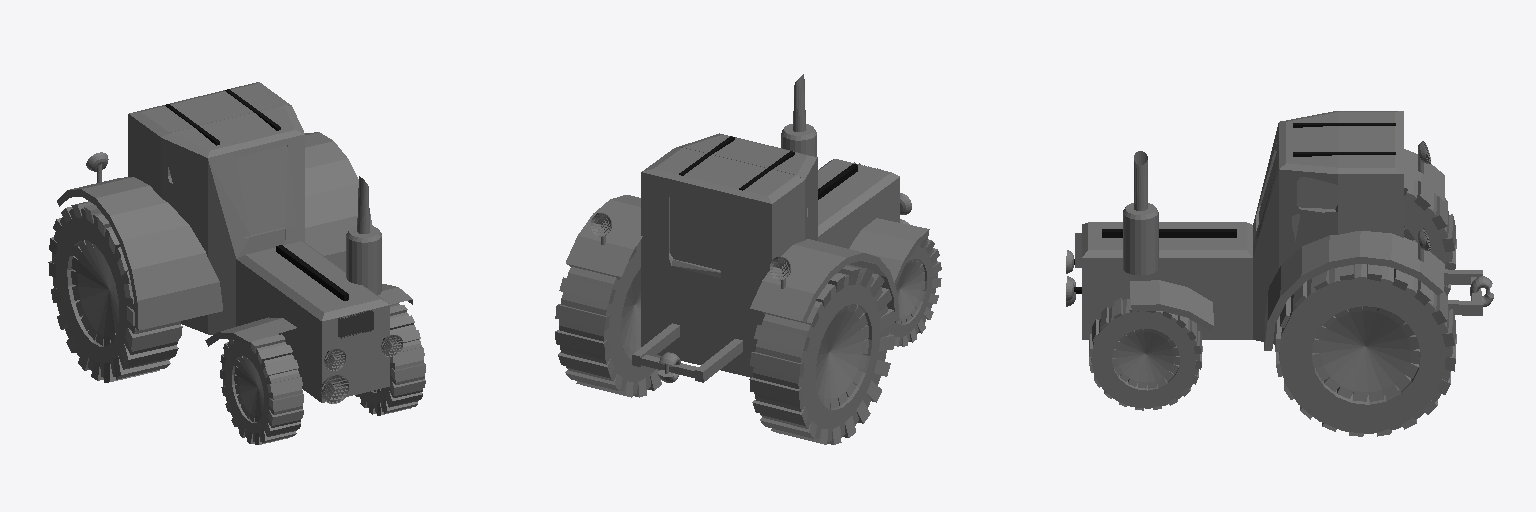
File: Tractor002.obj
3 views of the same model, side by side, from view 1: azimuth 30°, elevation 25°; view 2: azimuth 150°, elevation 25°; view 3: azimuth 270°, elevation 25° (orthographic).
Visible parts, largest first — view 1: polySurface40, polySurface33, pTorus2, pCube14, polySurface52 pCylinder20; view 2: polySurface40, polySurface33, pTorus2, pCube14; view 3: polySurface40, polySurface33, pTorus2, pCube14, polySurface52 pCylinder20.
Boxes of the visible parts, box(x1,y1,x2,y2) form: polySurface40: box(57, 82, 412, 402); polySurface33: box(48, 201, 425, 444); pTorus2: box(86, 152, 402, 403); pCube14: box(236, 145, 287, 235); polySurface52 pCylinder20: box(276, 245, 348, 300); polySurface40: box(566, 133, 929, 377); polySurface33: box(555, 237, 941, 444); pTorus2: box(591, 74, 911, 382); pCube14: box(670, 189, 720, 270); polySurface40: box(1075, 111, 1444, 350); polySurface33: box(1089, 175, 1456, 436); pTorus2: box(1066, 141, 1493, 315); pCube14: box(1259, 153, 1337, 240); polySurface52 pCylinder20: box(1102, 229, 1236, 237).
Bounding box in the file's own units: 9.18 × 8.54 × 13.62.